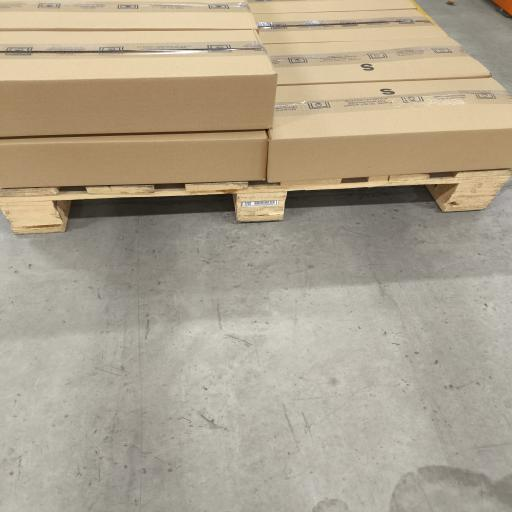pallet: (0, 169, 511, 233)
